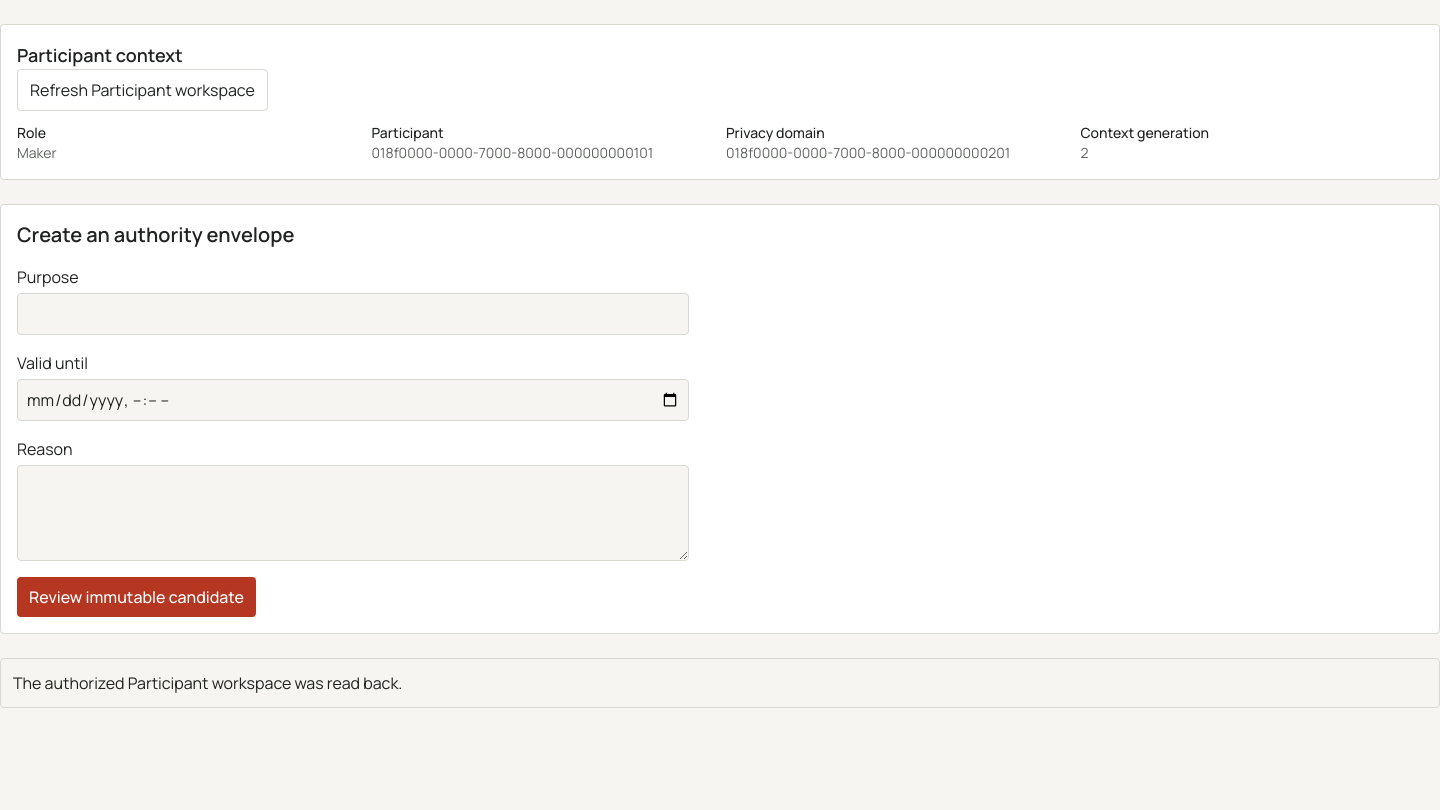
Test case: preserves preview, original token, distinct checker submission and exact approved commit/readback
Expected: the heading "Create an authority envelope" is shown, [17,221,294,248]
In the field labelled "Purpose": (353, 314) [17,293,689,335], type "Local governance proposal"
In the field labelled "Valid until": (353, 400) [17,379,689,421], type "2026-11-10T10:00"
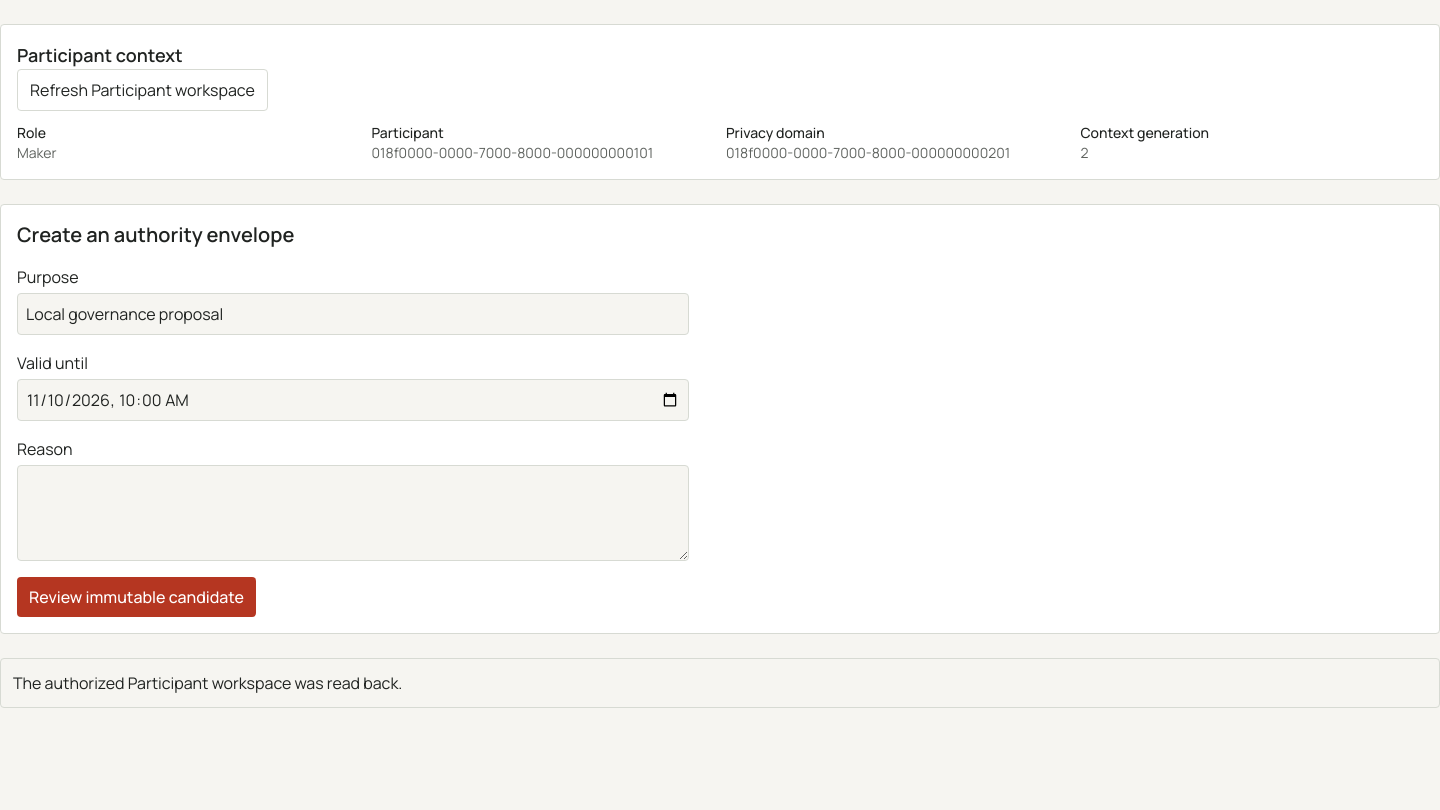
In the text box labelled "Reason": (353, 513) [17,465,689,561], type "Create the reviewed administration envelope."
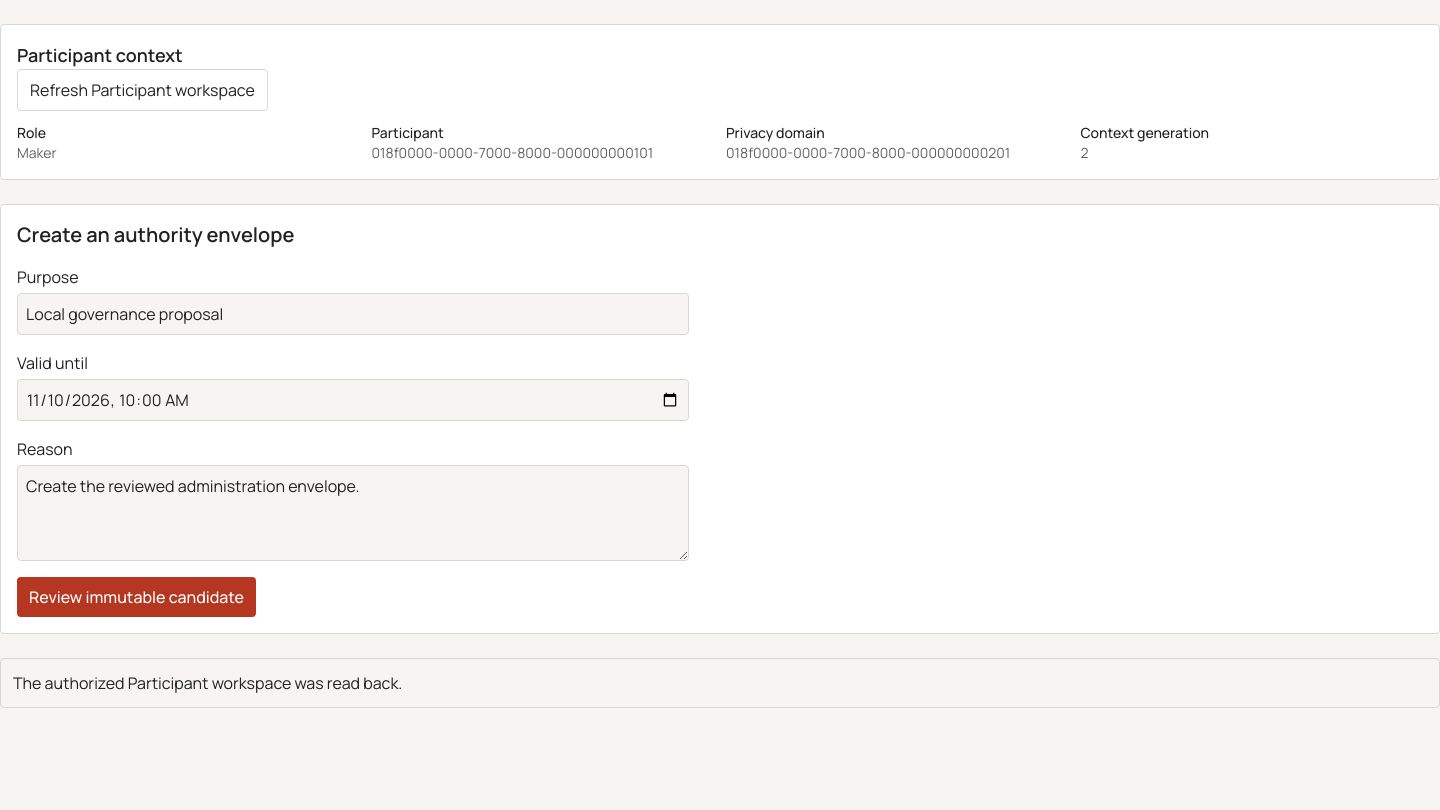
Click the button "Review immutable candidate": (136, 597) [17,577,256,617]
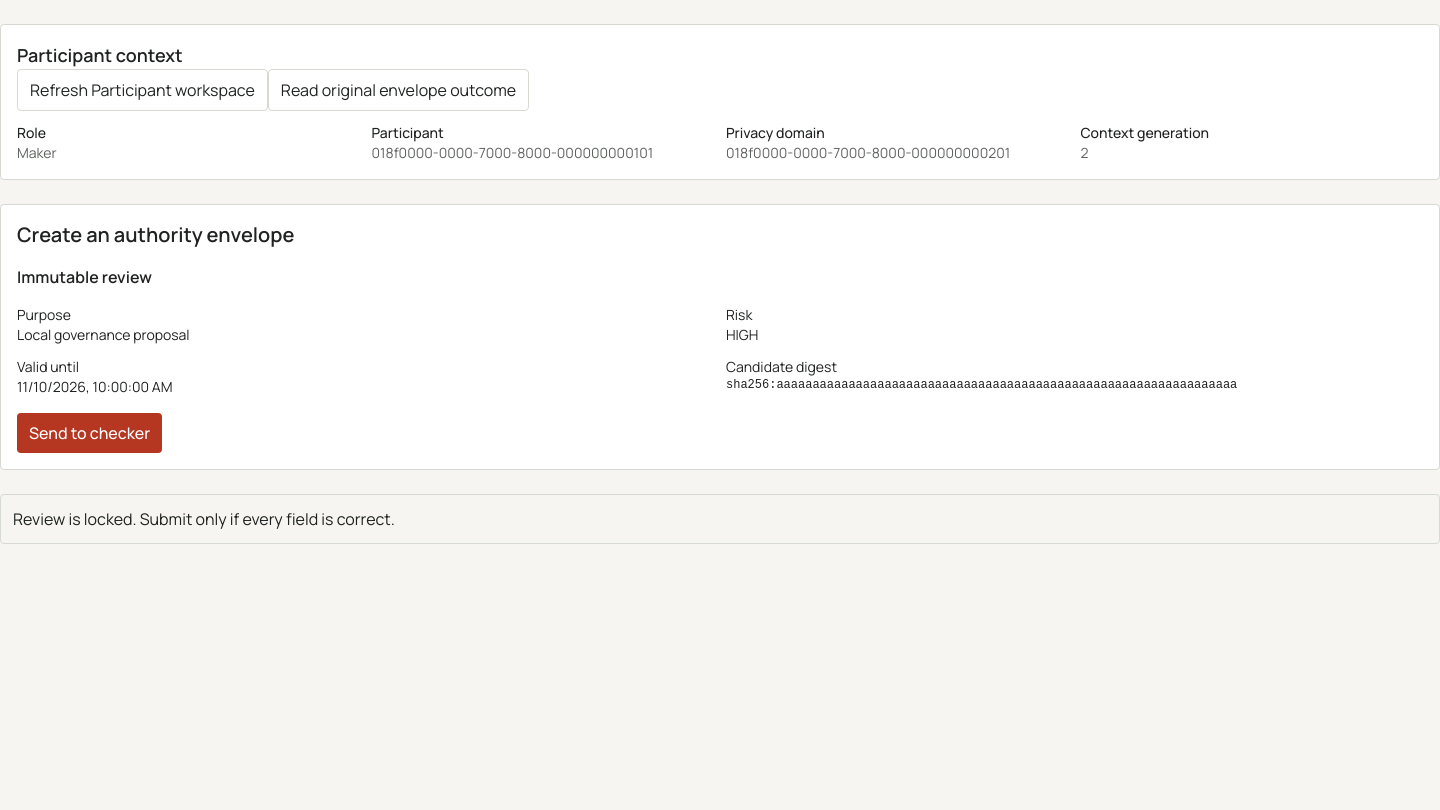
Result: the heading "Immutable review" is shown at [17,266,152,288]
Click the button "Send to checker": (90, 433) [17,413,162,453]
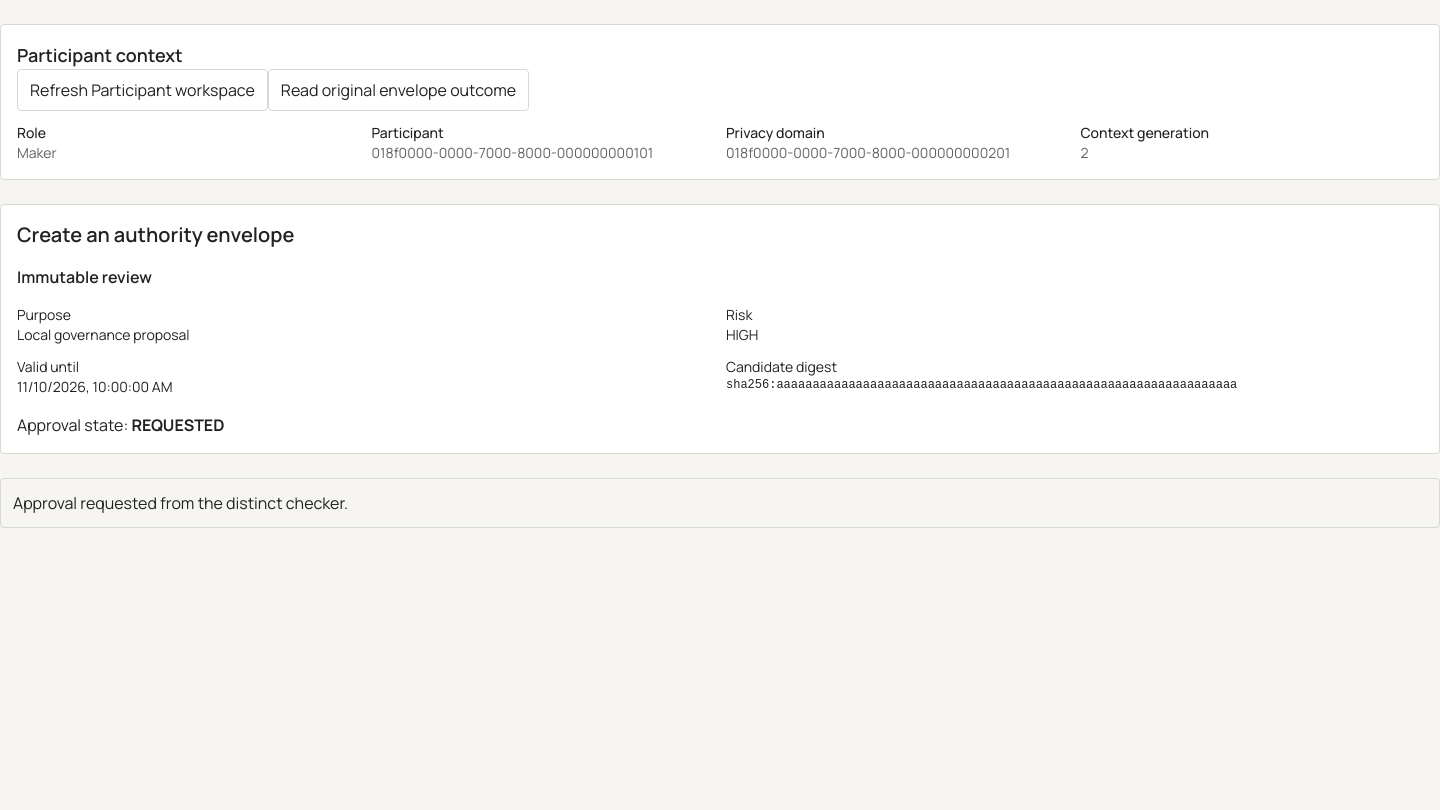
Expected: the button "Commit approved effect" is not shown
Result: the text "Approval requested from the distinct checker." is shown at [0,478,1439,528]
Click the button "Refresh Participant workspace": (142, 90) [17,69,268,111]
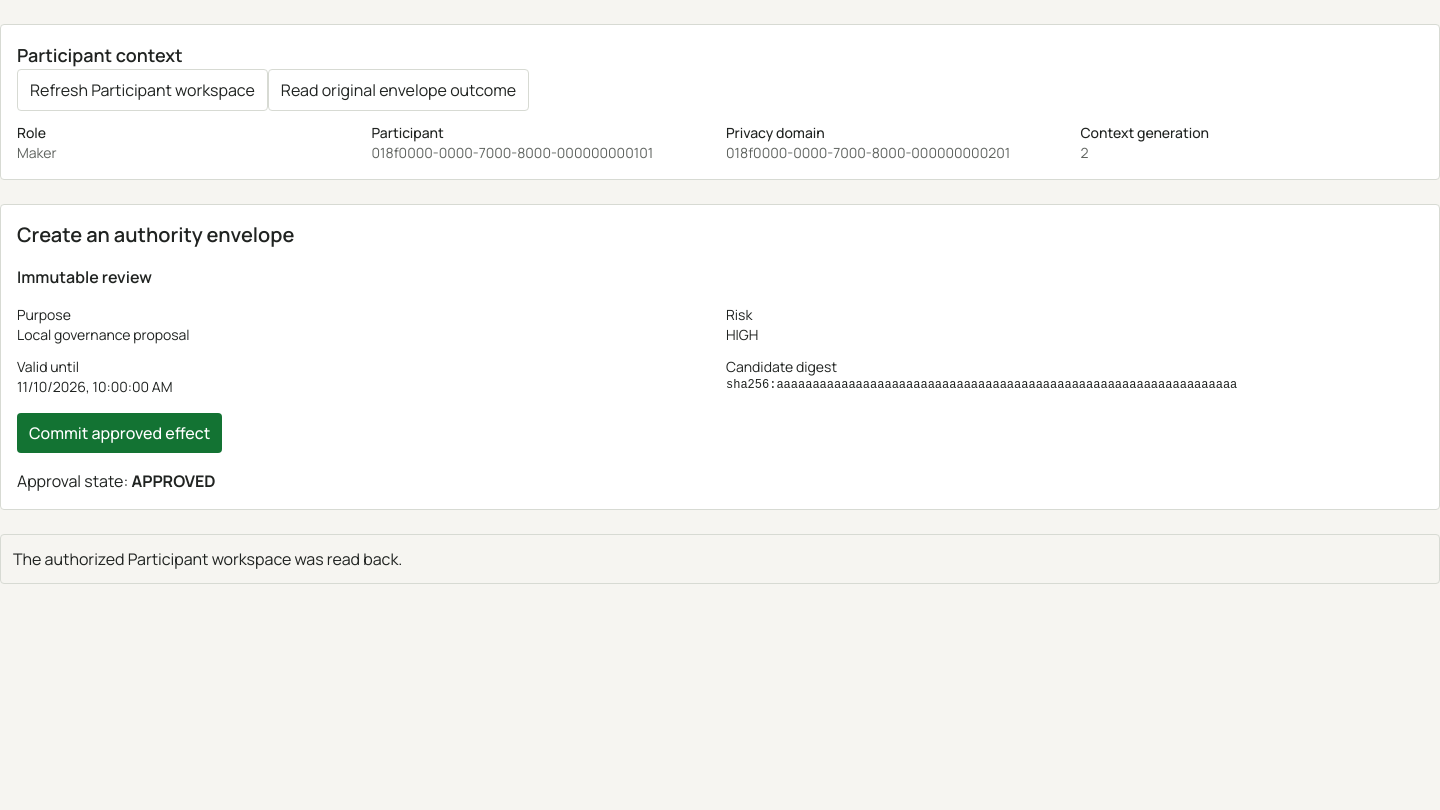
Click the button "Commit approved effect": (120, 433) [17,413,222,453]
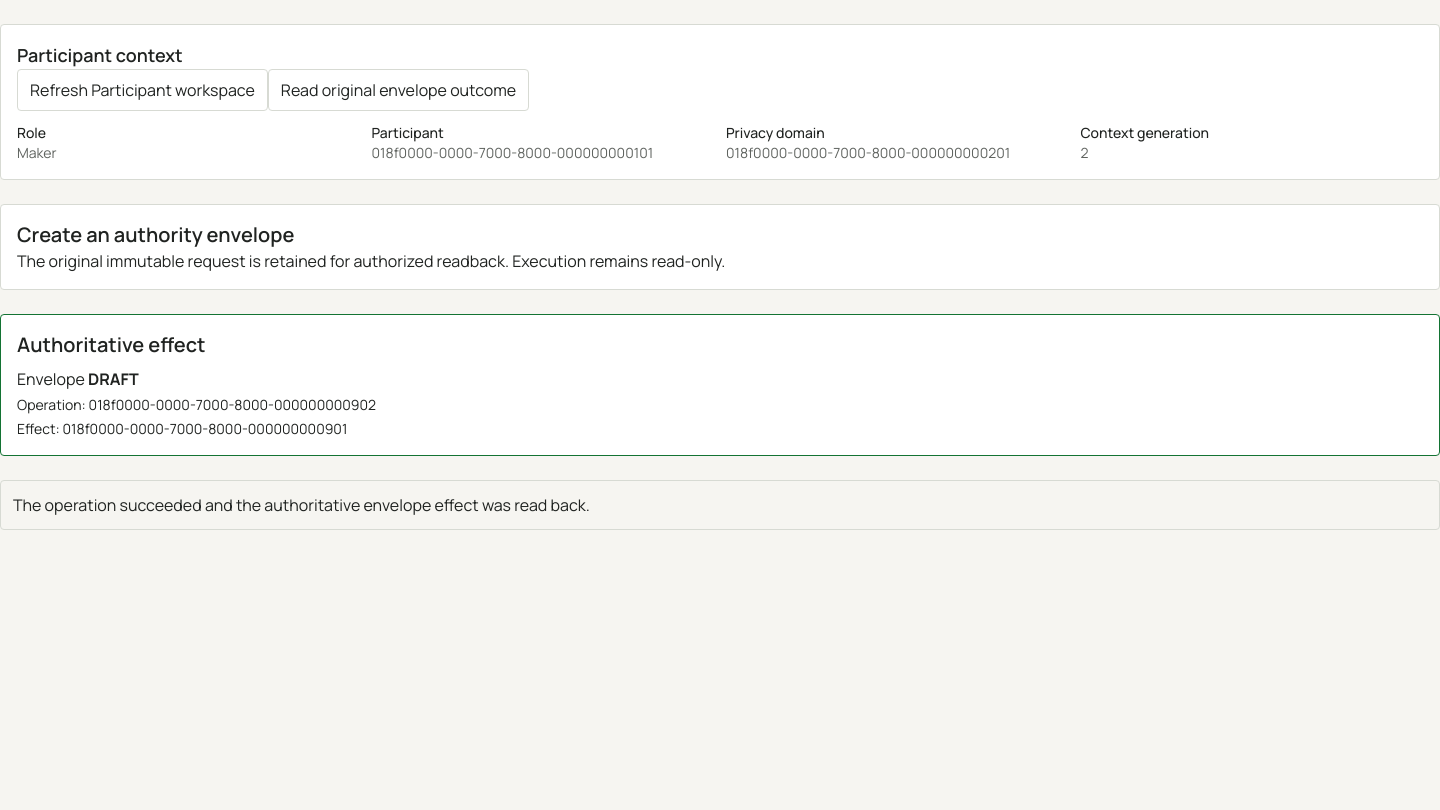
Result: the heading "Authoritative effect" is shown at [17,331,206,358]
Result: the text "The operation succeeded and the authoritative envelope effect was read back." is shown at [0,480,1439,530]
